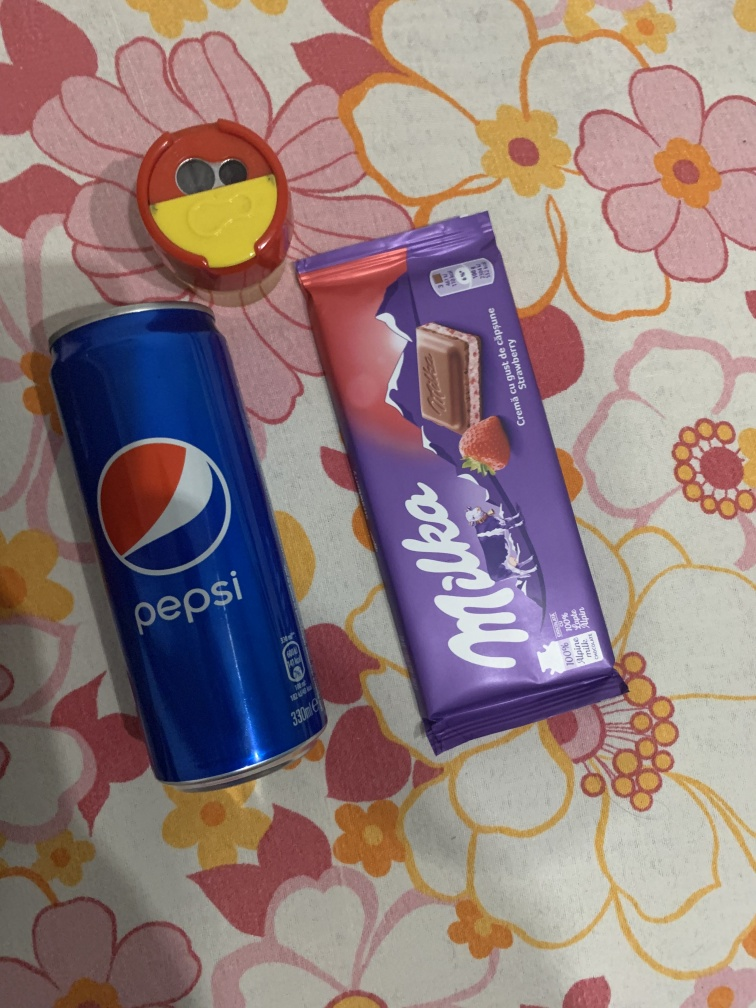milka: (285, 206, 635, 756)
pepsi: (22, 297, 330, 799)
